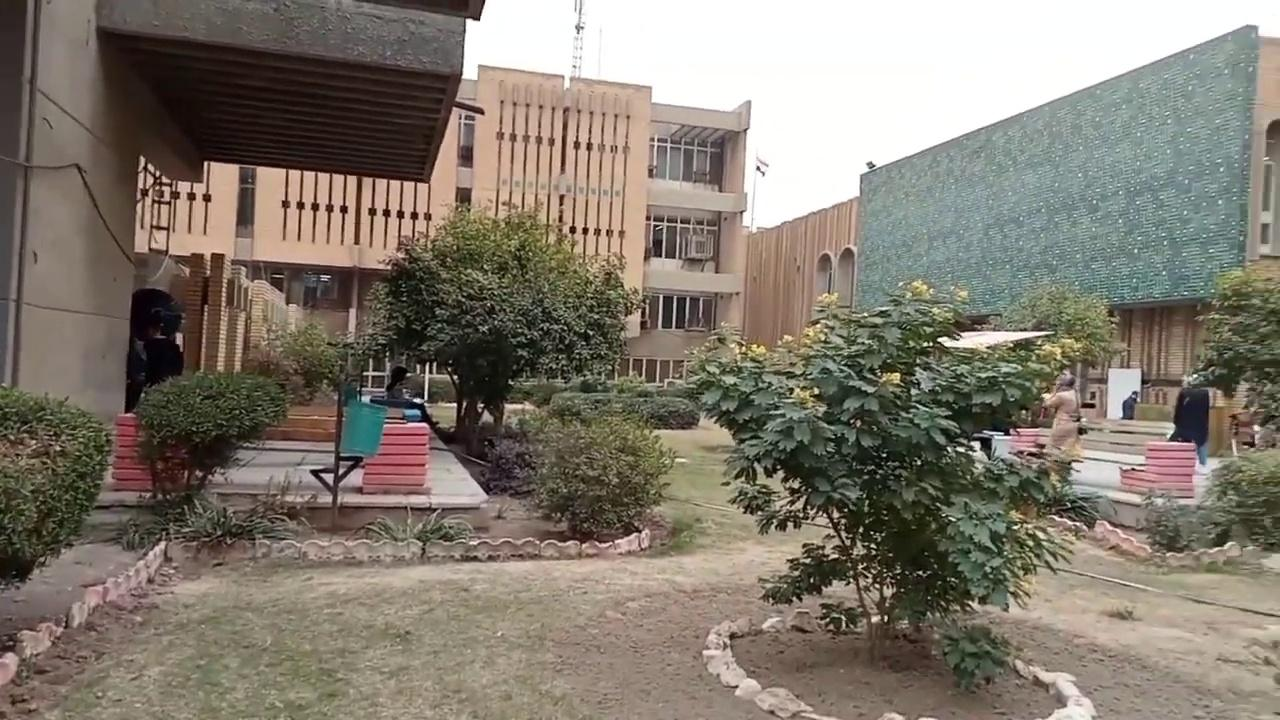person: (1038, 372, 1081, 460), (1167, 384, 1210, 465), (384, 364, 438, 426), (139, 316, 183, 388), (1121, 390, 1138, 419)
tree: (671, 276, 1107, 689), (351, 197, 651, 457), (0, 380, 112, 580), (523, 405, 677, 540), (132, 367, 289, 497), (997, 279, 1127, 417), (1181, 261, 1279, 439), (255, 312, 365, 407)
